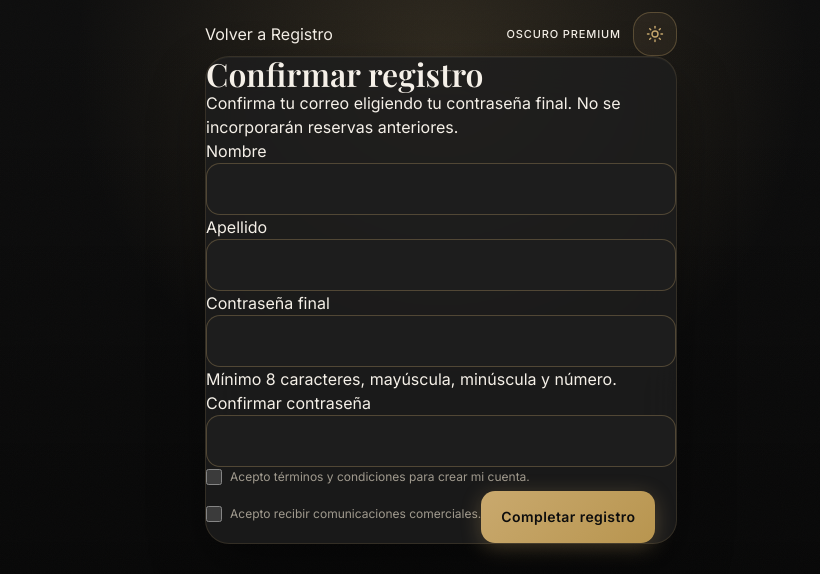
Scenario: confirmación final con marketing=false, sin sesión automática ni token residual en URL
The image size is (820, 574).
Step 1. Type "New" into the field labelled "Nombre" → (441, 189), box [206,163,676,215]
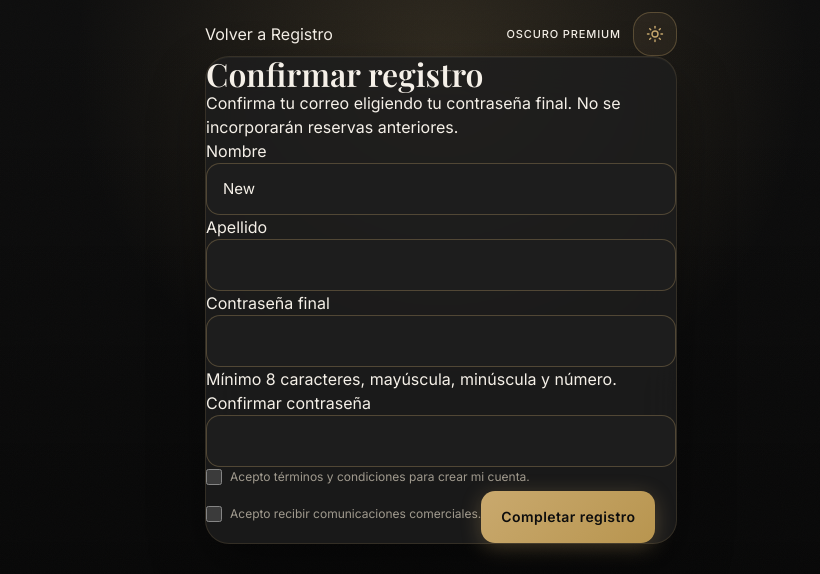
Step 2. Type "Owner" into the field labelled "Apellido" → (441, 265), box [206,239,676,291]
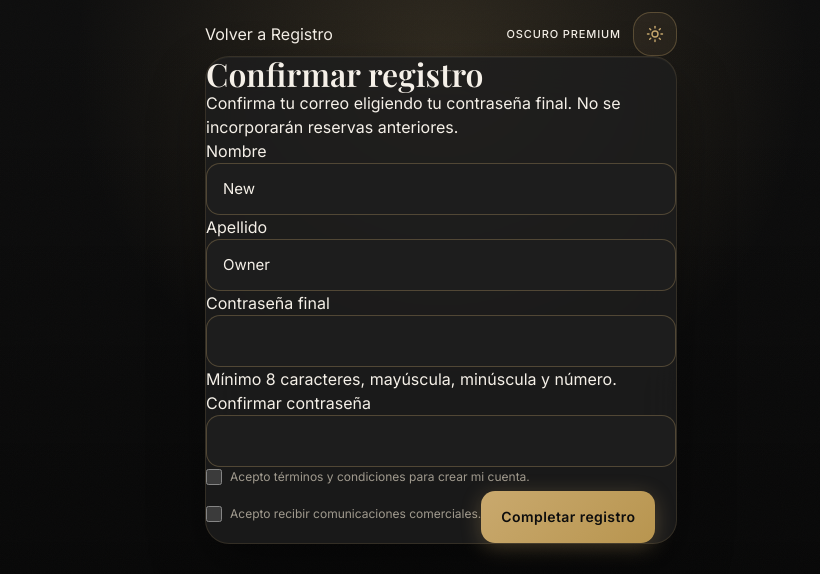
Step 3. Type "FinalOwner9!" into the password field labelled "Contraseña final" → (441, 341), box [206,315,676,367]
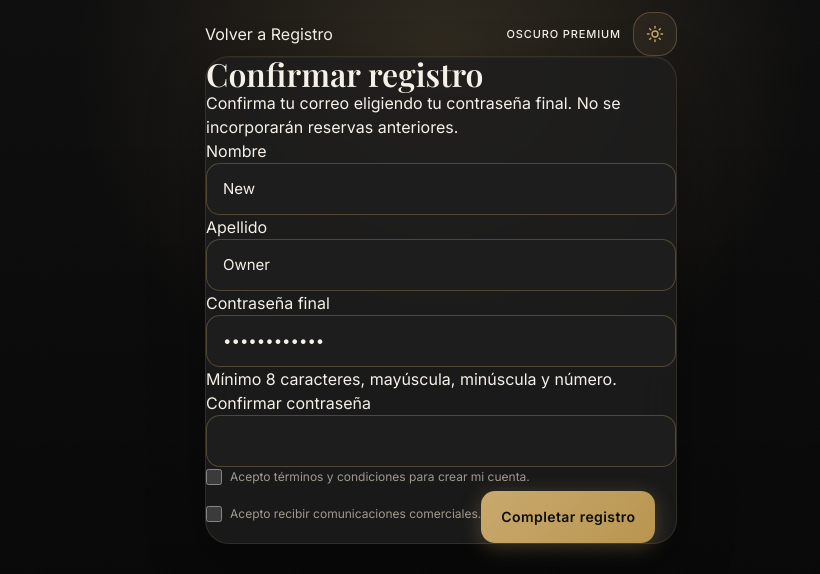
Step 4. Type "FinalOwner9!" into the password field labelled "Confirmar contraseña" → (441, 441), box [206,415,676,467]
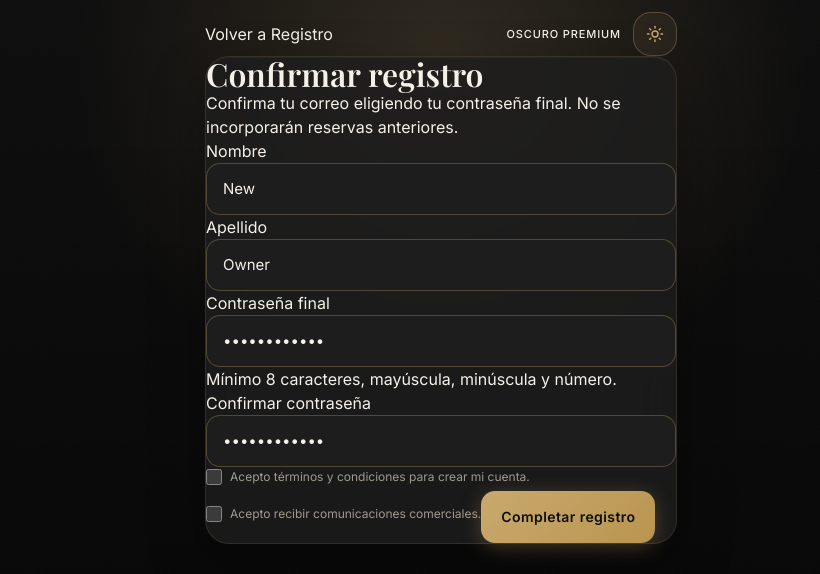
Step 5. Click the checkbox labelled "Acepto términos y condiciones para crear mi cuenta." → (214, 477), box [206,469,222,485]
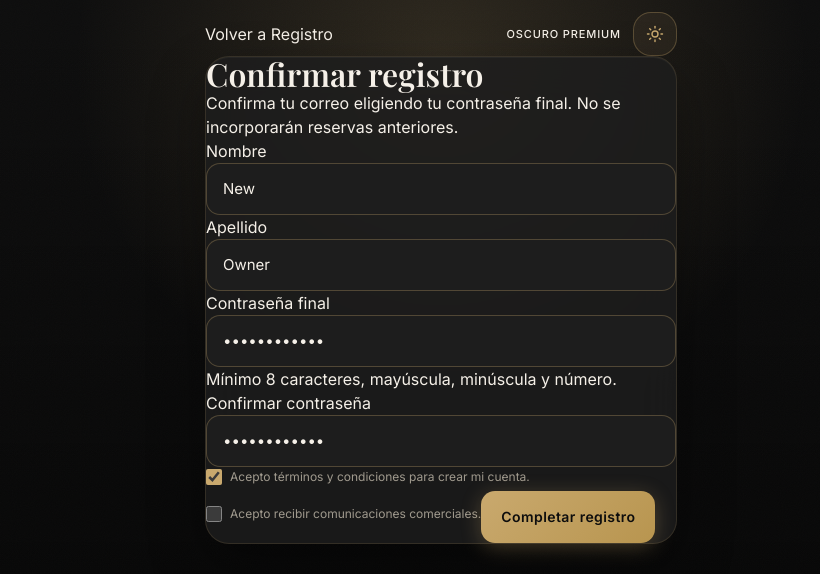
Step 6. Click the button "Completar registro" → (568, 517), box [481,491,656,543]
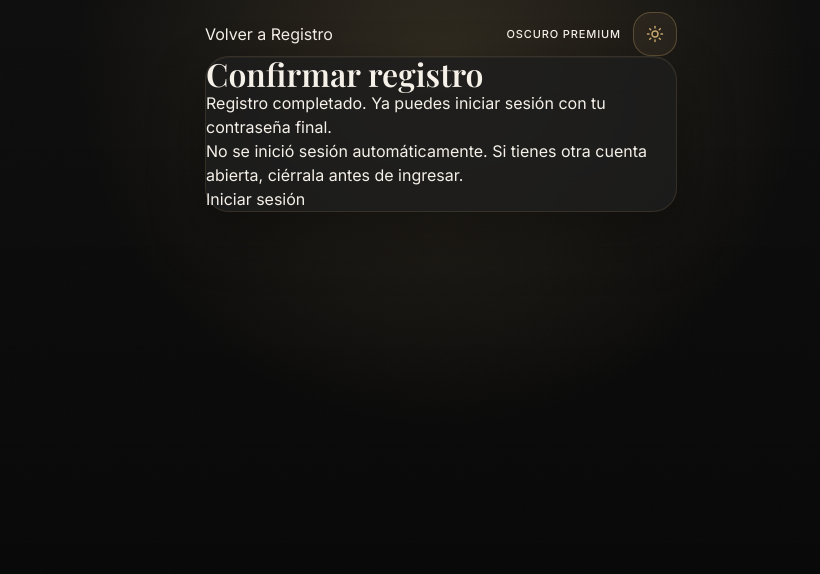
Expected: the message shows "Registro completado", [206,93,606,137]
